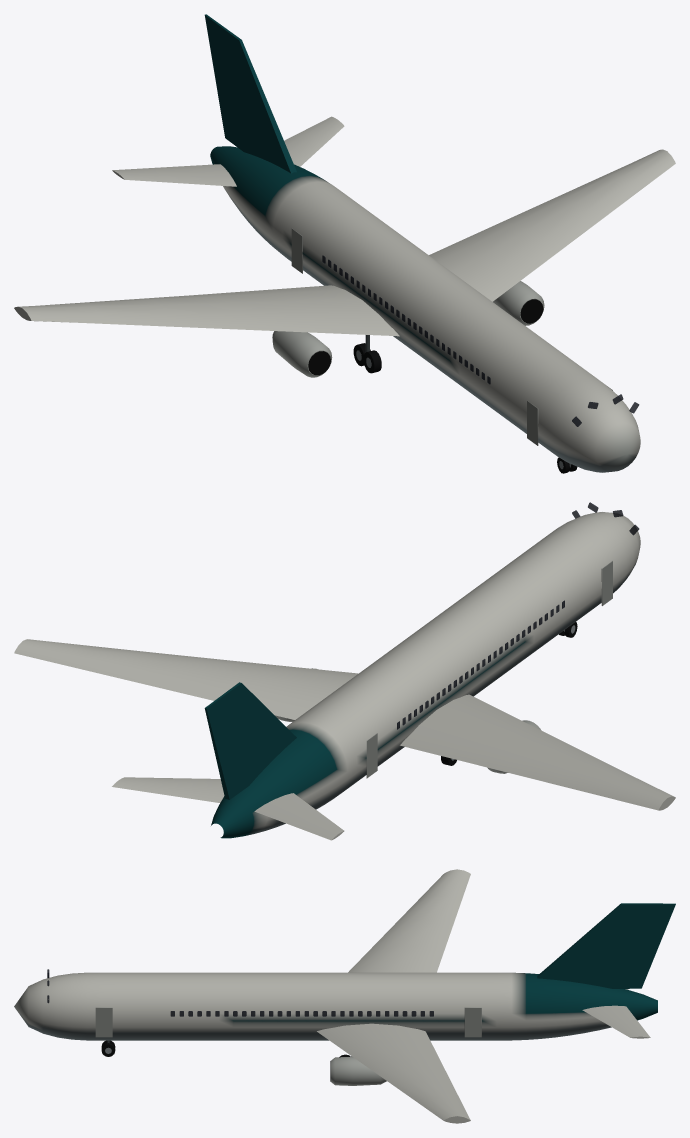
Rendered from ap-aircraft.glb.
3 views of the same model, one above another, from view 1: azimuth 30°, elevation 25°; view 2: azimuth 150°, elevation 25°; view 3: azimuth 270°, elevation 25° (orthographic). The views are drawn at different scales.
Parts seen in each view (by area): view 1: fuselage__paint, wings__paint, engines__metal, details__paint, windows__glass_tint, gear__rubber; view 2: fuselage__paint, wings__paint, windows__glass_tint, details__paint; view 3: fuselage__paint, wings__paint, engines__metal, details__paint, windows__glass_tint.
Part boxes in pixels (x1,y1,x2,y2): fuselage__paint: (210,146,640,472); wings__paint: (14,14,675,336); engines__metal: (272,281,544,377); details__paint: (291,228,612,445); windows__glass_tint: (322,255,639,426); gear__rubber: (353,335,577,473); fuselage__paint: (211,512,640,838); wings__paint: (14,639,675,840); windows__glass_tint: (397,502,639,729); details__paint: (366,561,612,778); fuselage__paint: (14,972,657,1040); wings__paint: (317,869,675,1123); engines__metal: (330,1056,386,1085); details__paint: (95,1007,481,1081); windows__glass_tint: (47,969,433,1016).
Size of the model in its own units: 34 by 9.7 by 38.55.
